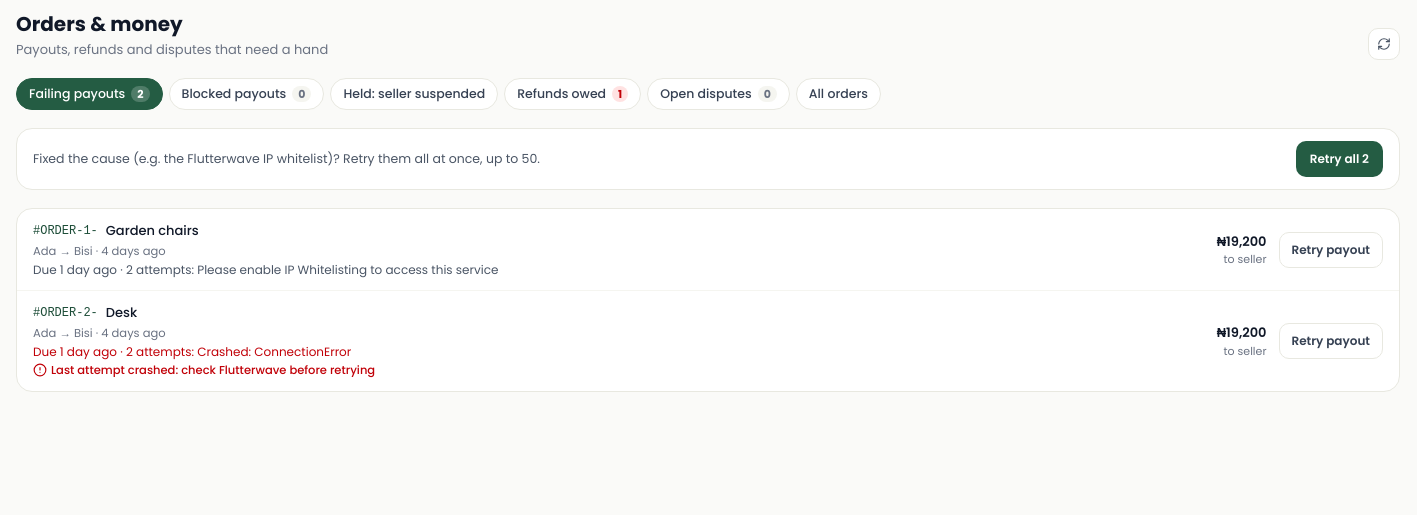
Test: AdminOrdersPage › retries all failing payouts and lists the results
Click the button "Retry all 2".
click(1339, 159)  # box 1296,141 -> 1383,177
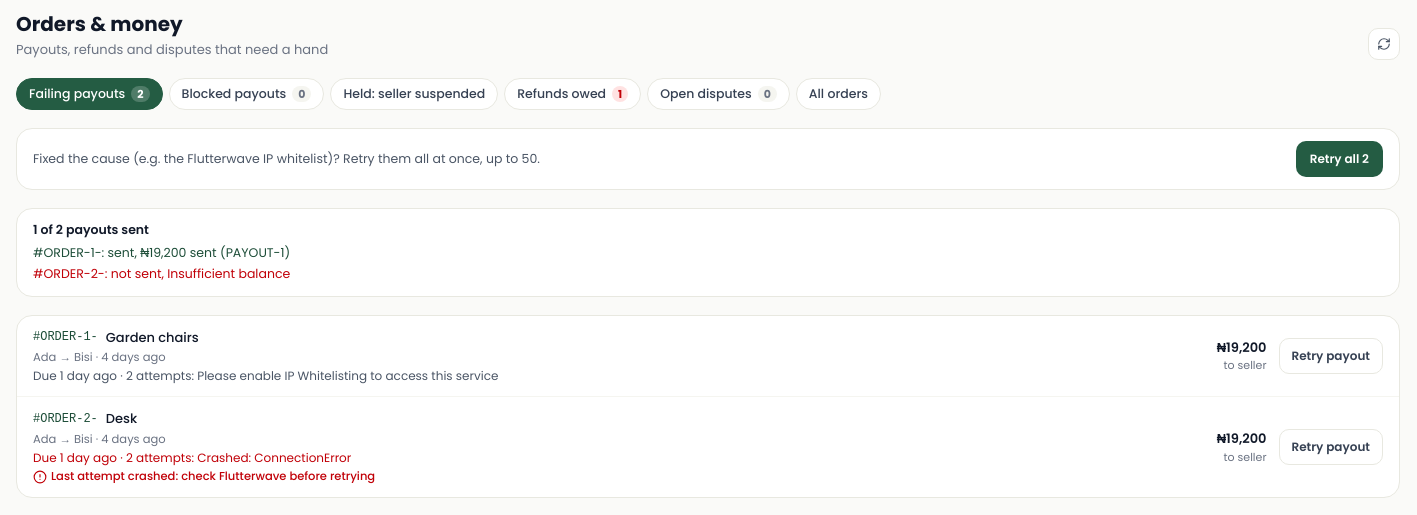
Expected: the text "1 of 2 payouts sent" is shown, 33,221 -> 149,238
Expected: the list item "#ORDER-2-: not sent, Insufficient balance" is shown, 33,265 -> 290,282
